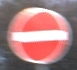No entry: (7, 7, 71, 64)
